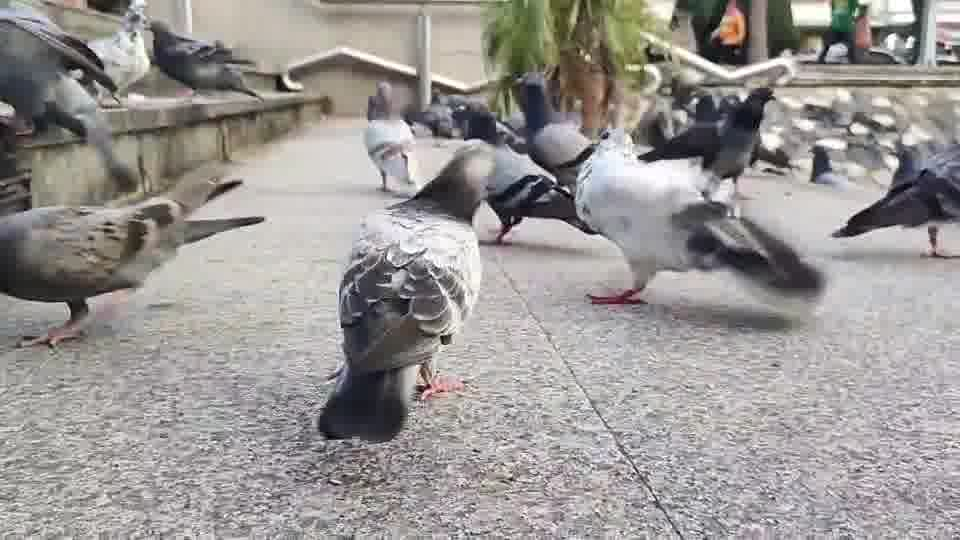Pigeon: (317, 138, 506, 442), (0, 173, 265, 350), (571, 126, 825, 308), (0, 12, 139, 192), (451, 104, 598, 245), (636, 85, 776, 203), (830, 135, 959, 258), (510, 70, 596, 190), (147, 18, 264, 102), (362, 80, 418, 192), (807, 144, 854, 190)
